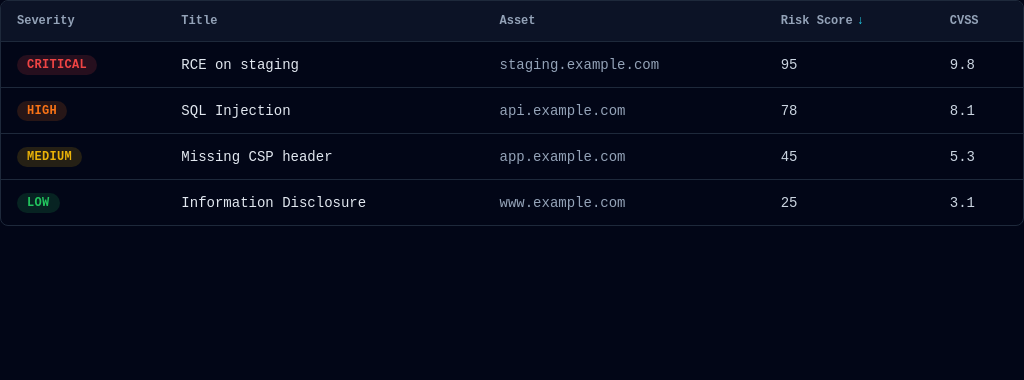
Test: FindingsTable › only expands one row at a time
Note: Expand the first finding
Click the text "RCE on staging". click: (512, 64)
box: [1,42,1023,88]
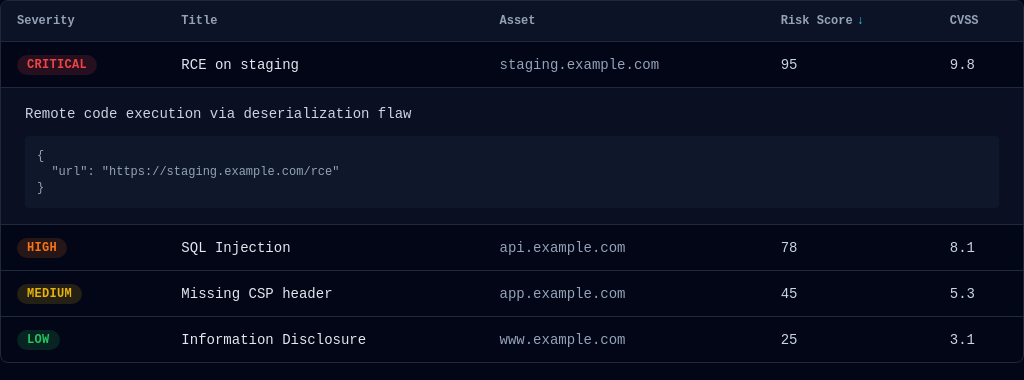
Result: the text "Remote code execution via deserialization flaw" is shown at [25,106,412,122]
Note: Expand the second finding
Click the text "SQL Injection". click: (512, 248)
box: [1,224,1023,270]
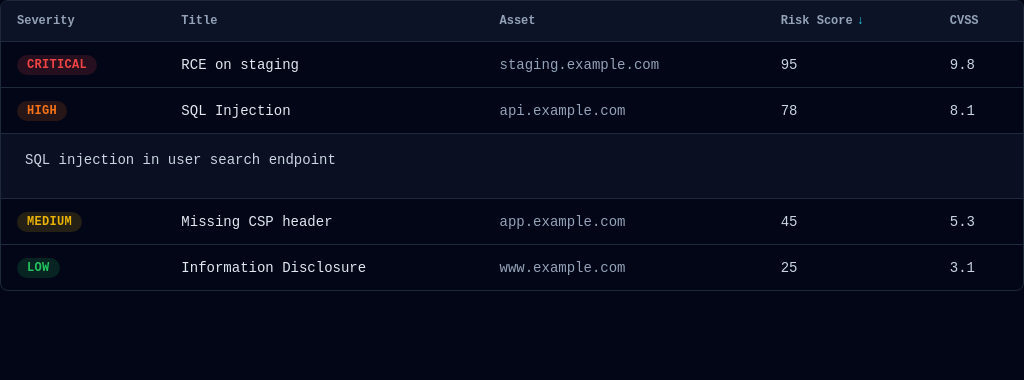
Result: the text "SQL injection in user search endpoint" is shown at [25,152,336,168]
Result: the text "Remote code execution via deserialization flaw" is gone
